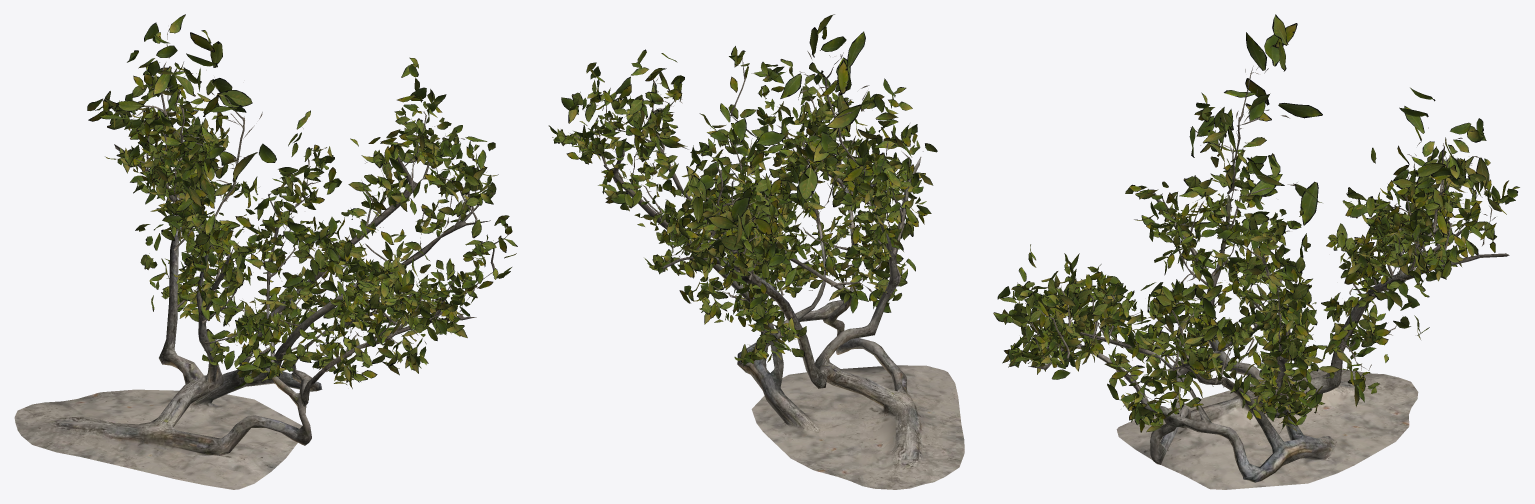
The model's file is arv3-medio.glb.
3 renders of one model, left to right at view 1: azimuth 30°, elevation 25°; view 2: azimuth 150°, elevation 25°; view 3: azimuth 270°, elevation 25°, orthographic. The views are drawn at different scales.
Visible parts, largest first — view 1: island_tree_03_LOD0; view 2: island_tree_03_LOD0; view 3: island_tree_03_LOD0.
Boxes of the visible parts, x1,y1,x2,y2 form: island_tree_03_LOD0: (14,14,517,489); island_tree_03_LOD0: (548,14,964,489); island_tree_03_LOD0: (993,14,1519,489).
Bounding box in the file's own units: 2.94 × 2.67 × 2.94.
Materials: 3 (3 with a texture image).
